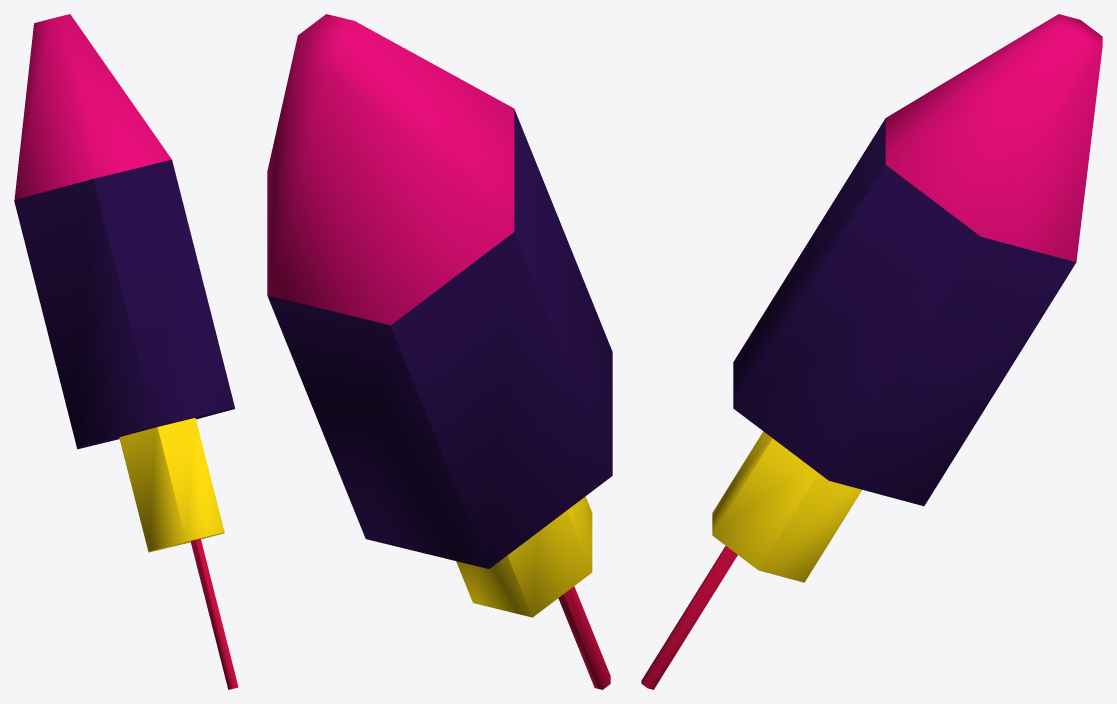
Rendered from balaNgKwitis.fbx.
3 renders of one model, left to right at view 1: azimuth 30°, elevation 25°; view 2: azimuth 150°, elevation 25°; view 3: azimuth 270°, elevation 25°, orthographic. The views are drawn at different scales.
Parts seen in each view (by area): view 1: tree.011; view 2: tree.011; view 3: tree.011.
Boxes of the visible parts, left/top/right/bottom form: tree.011: left=14, top=14, right=238, bottom=689; tree.011: left=267, top=14, right=612, bottom=689; tree.011: left=641, top=14, right=1102, bottom=689.
Size of the model in its own units: 34.77 by 116 by 72.79.
